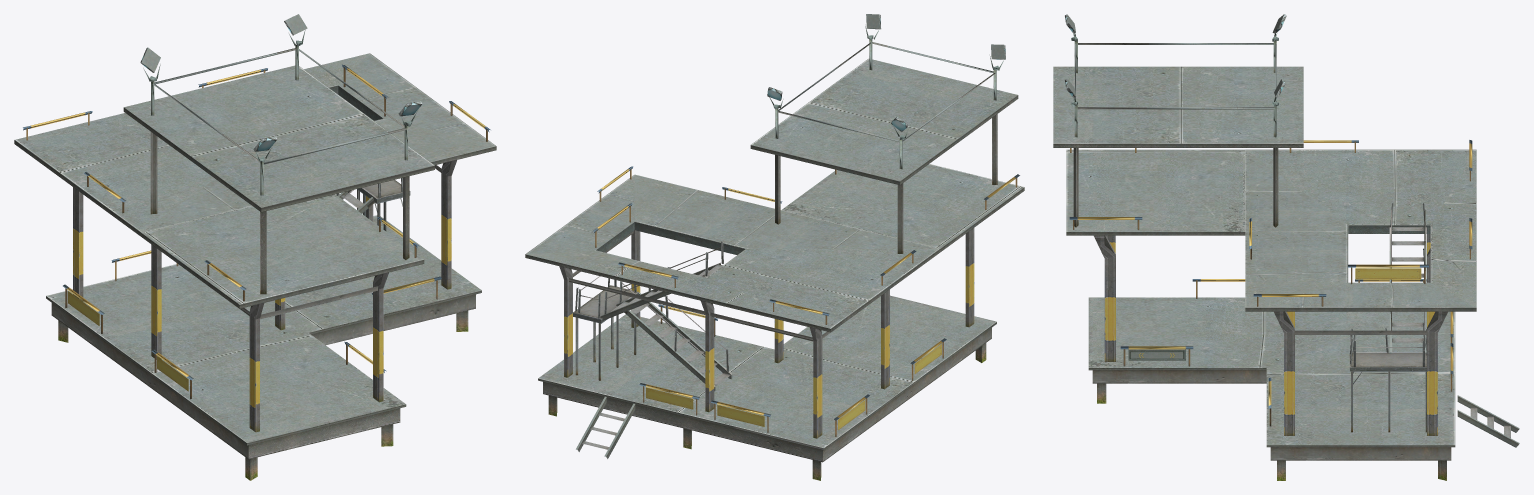
File: Building_Mainexit02_lod2.glb
3 views of the same model, side by side, from view 1: azimuth 30°, elevation 25°; view 2: azimuth 150°, elevation 25°; view 3: azimuth 270°, elevation 25° (orthographic). The views are drawn at different scales.
Parts seen in each view (by area): view 1: xiutz_mainexit_02_lod2; view 2: xiutz_mainexit_02_lod2; view 3: xiutz_mainexit_02_lod2.
Part boxes in pixels (x1,y1,x2,y2): xiutz_mainexit_02_lod2: (14, 14, 496, 480); xiutz_mainexit_02_lod2: (525, 14, 1024, 480); xiutz_mainexit_02_lod2: (1053, 14, 1519, 480).
Bounding box in the file's own units: 19.68 × 18.95 × 24.52.
Materials: 1 (1 with a texture image).
